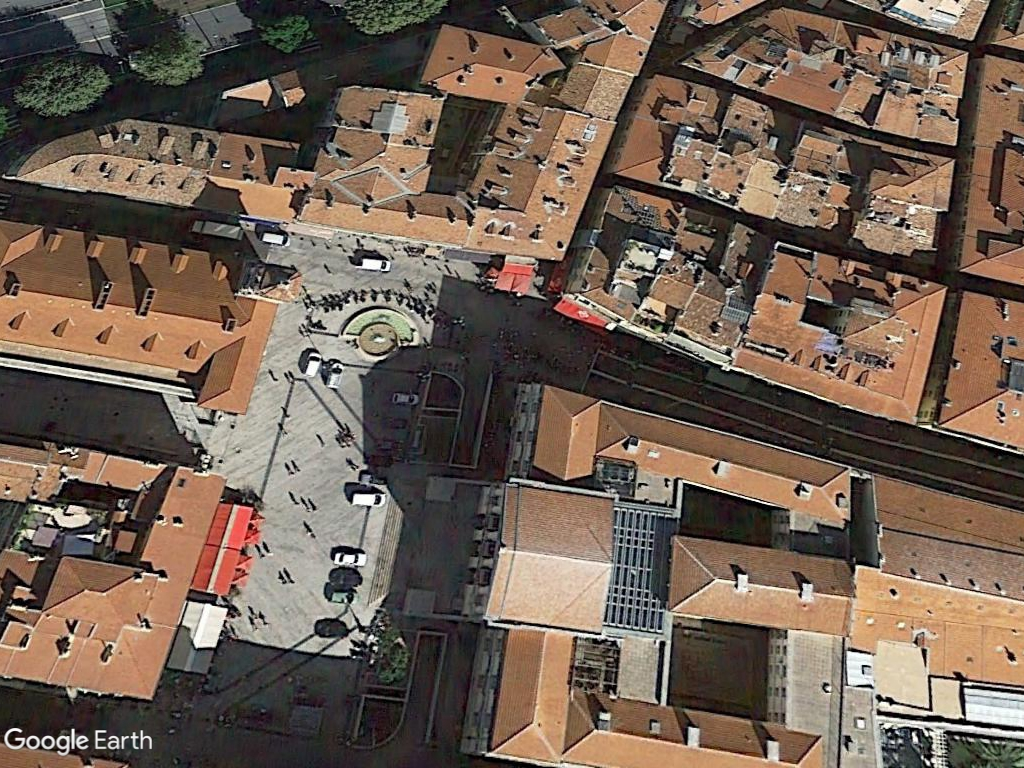car: (329, 548, 372, 571), (391, 390, 422, 408)
truck: (188, 216, 249, 243)
van: (350, 488, 387, 510), (357, 253, 395, 274), (259, 227, 295, 249), (304, 346, 322, 384), (325, 352, 341, 390)
